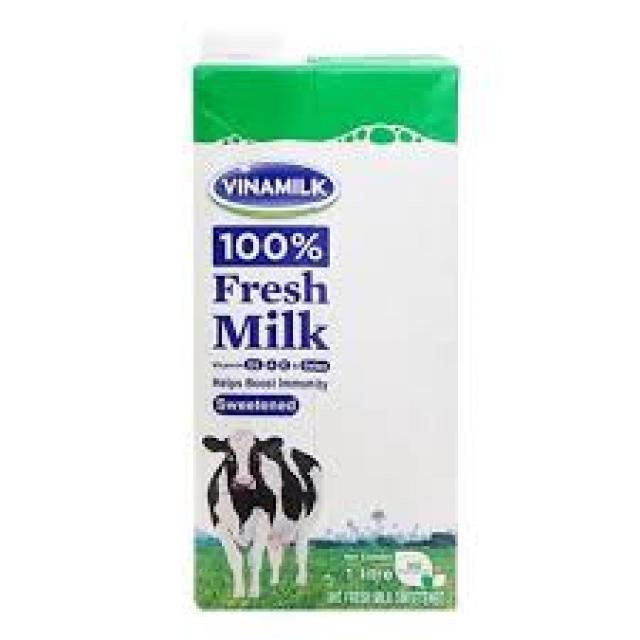non_white_jug: (159, 13, 484, 610)
